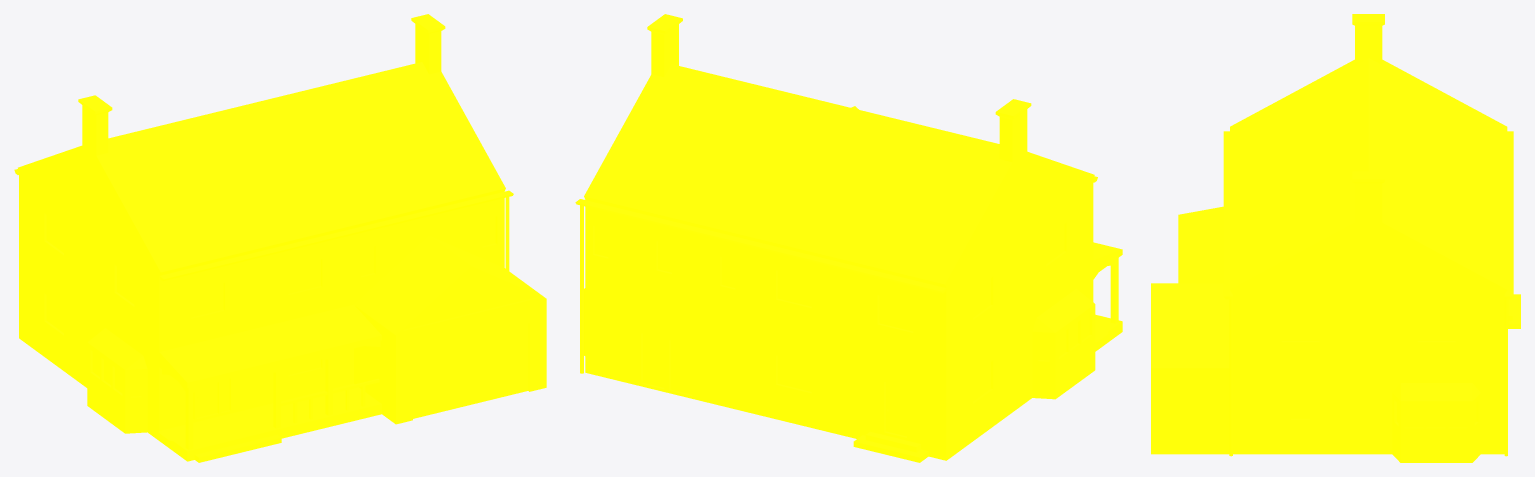
The model's file is building-house-family-large.glb.
3 views of the same model, side by side, from view 1: azimuth 30°, elevation 25°; view 2: azimuth 150°, elevation 25°; view 3: azimuth 270°, elevation 25° (orthographic). The views are drawn at different scales.
Visible parts, largest first — view 1: building-house-family-large; view 2: building-house-family-large; view 3: building-house-family-large.
Boxes of the visible parts, x1,y1,x2,y2 form: building-house-family-large: [14, 14, 546, 462]; building-house-family-large: [575, 14, 1122, 462]; building-house-family-large: [1151, 14, 1520, 462].
Bounding box in the file's own units: 15.68 × 11.2 × 13.6.
Materials: 1 (1 with a texture image).
